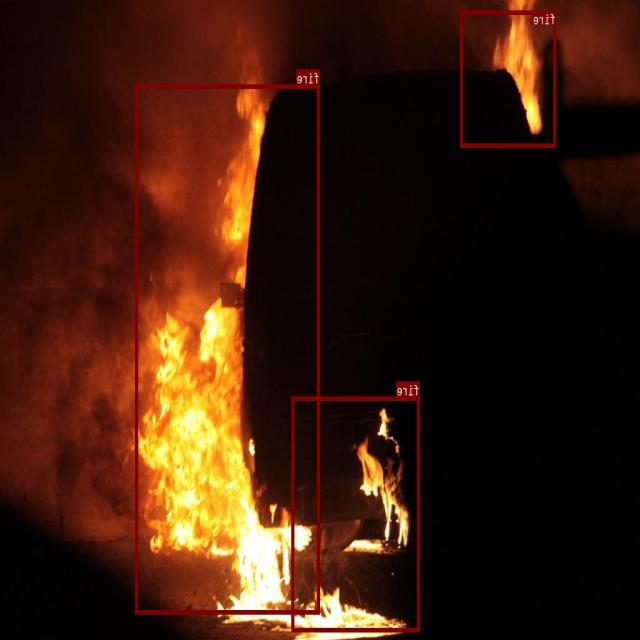fire: (136, 84, 320, 614), (292, 396, 421, 631), (461, 10, 557, 146)
